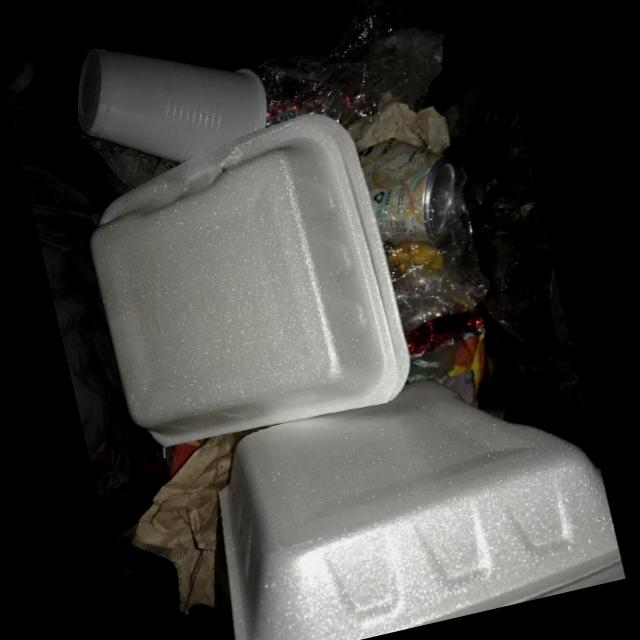giay: (131, 429, 256, 615), (346, 102, 450, 153)
hop_nhua: (77, 48, 267, 165)
nhom: (359, 137, 455, 243)
xop: (90, 113, 411, 448), (218, 381, 625, 640)
